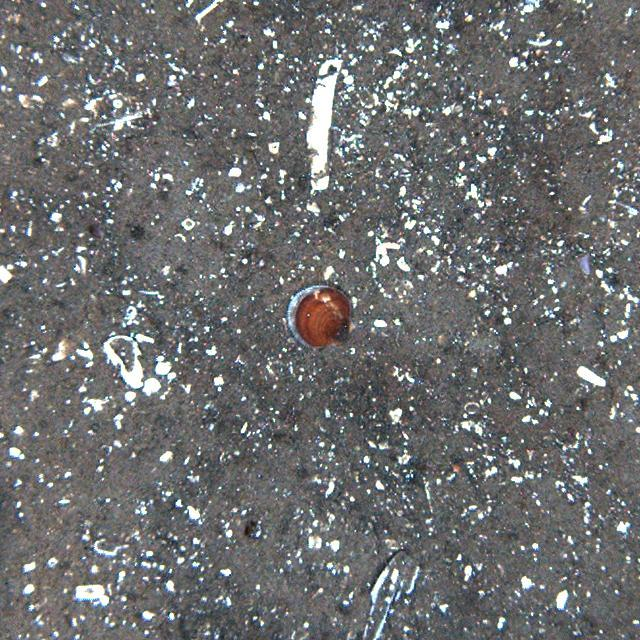scallop: (286, 282, 356, 350)
